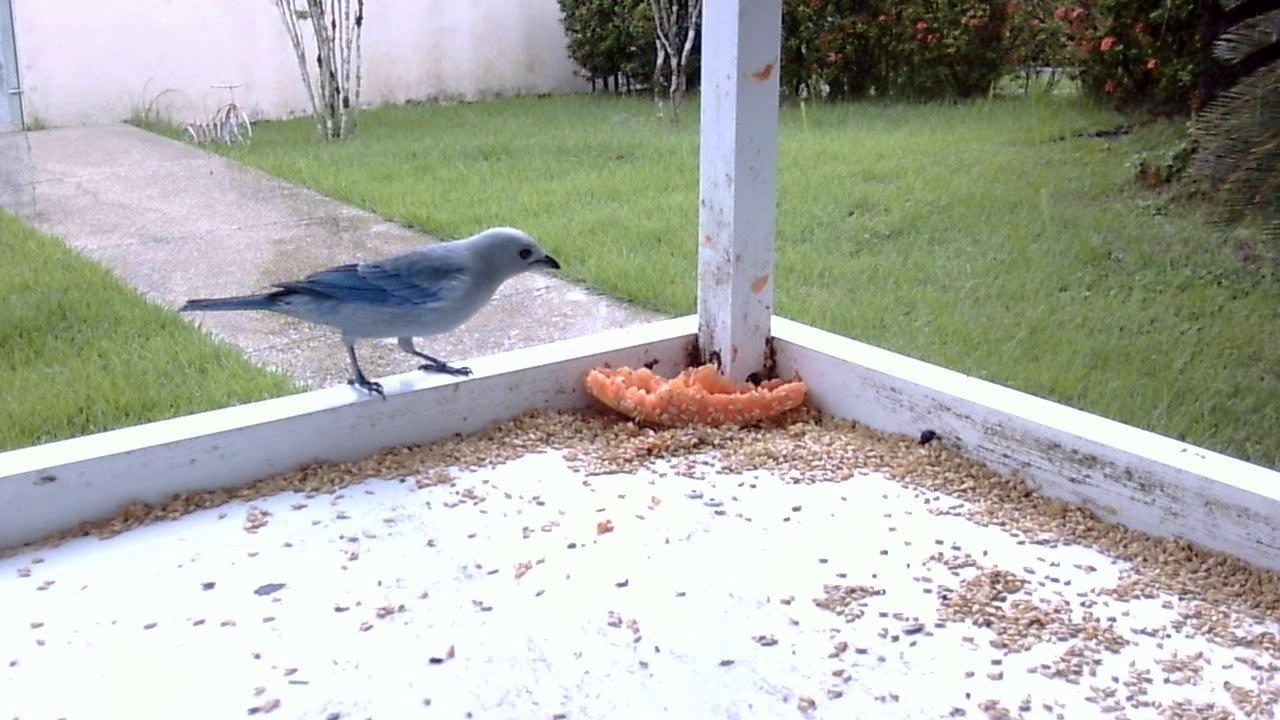sanhaco_da_amazonia: (179, 215, 567, 409)
